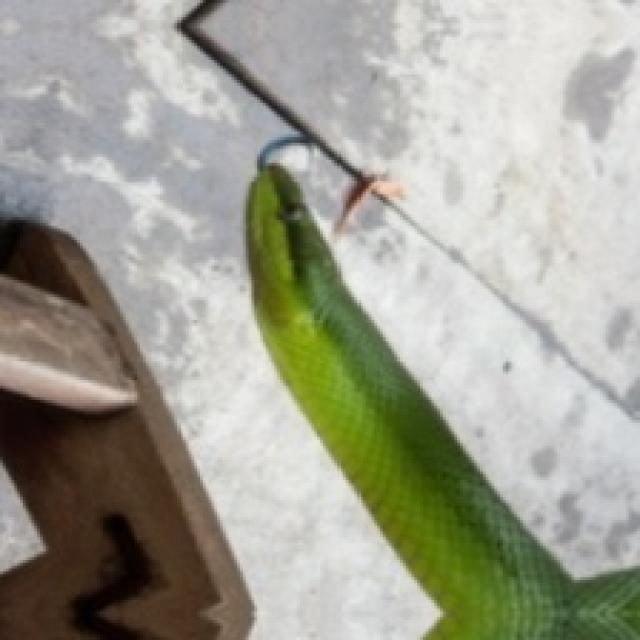red-tailed green ratsnake: (246, 166, 637, 637)
